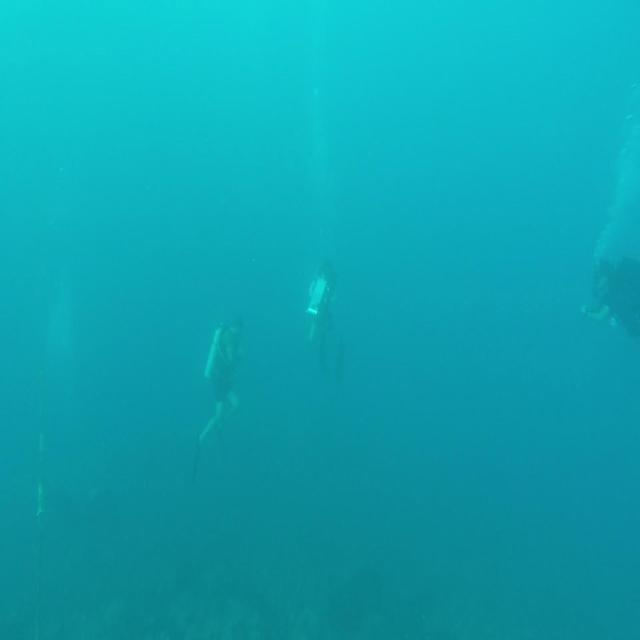human: (192, 312, 245, 476), (580, 253, 639, 340), (304, 257, 344, 379)
